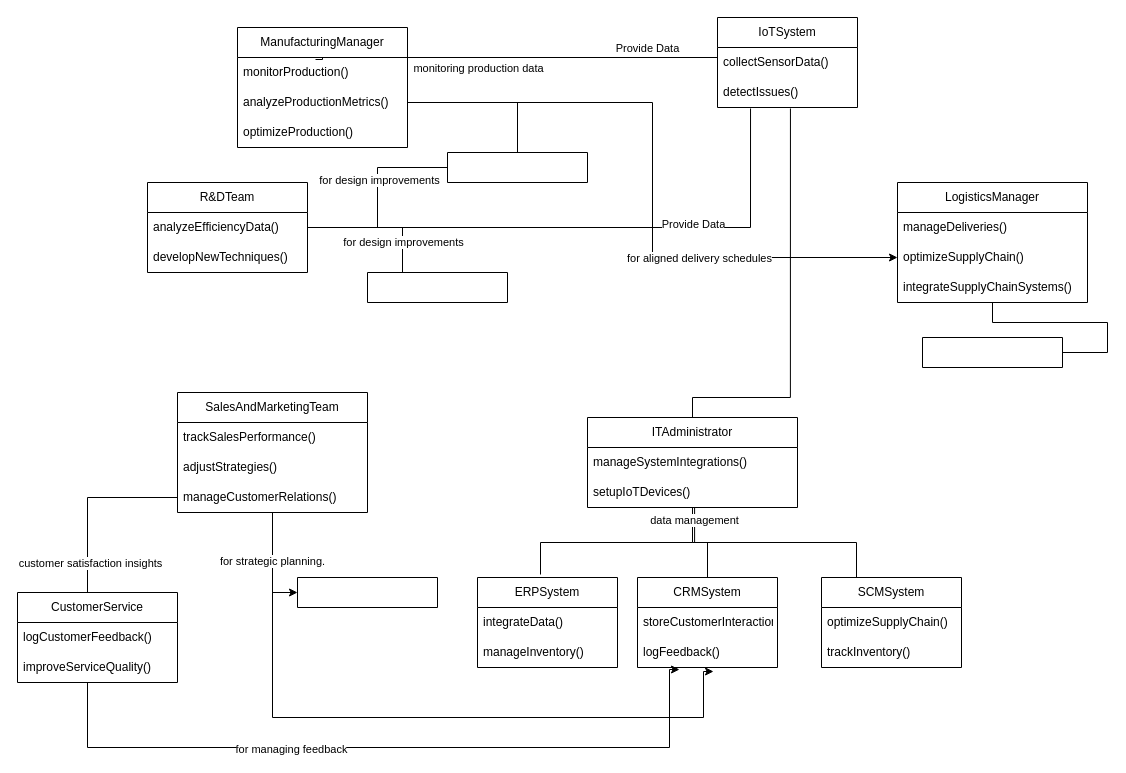
Image size: 1126x773. Some labels were removed from this diagram. Each missing label, with the centre of its shape:
"CustomerFeedback" belongs at pixel 437 287.
"LogisticsData" belongs at pixel 992 352.
"ProductionData" belongs at pixel 517 167.
"Sales Data" belongs at pixel 367 592.
